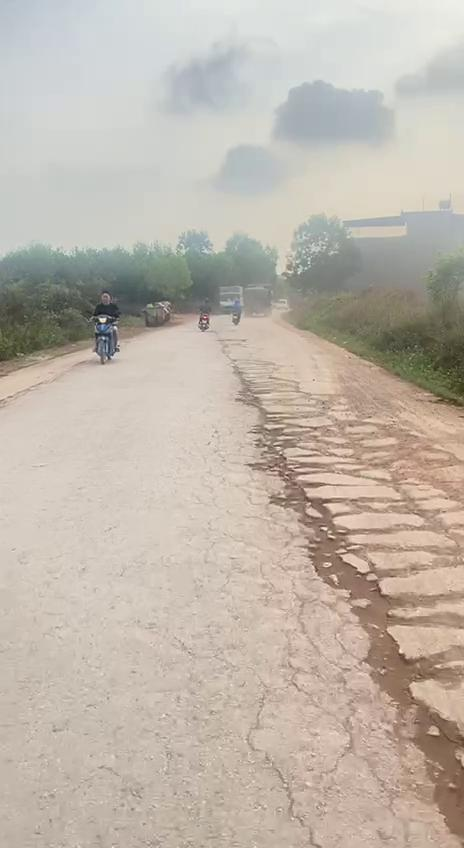pothole: (363, 576, 464, 848), (276, 484, 392, 609), (241, 384, 336, 500)
